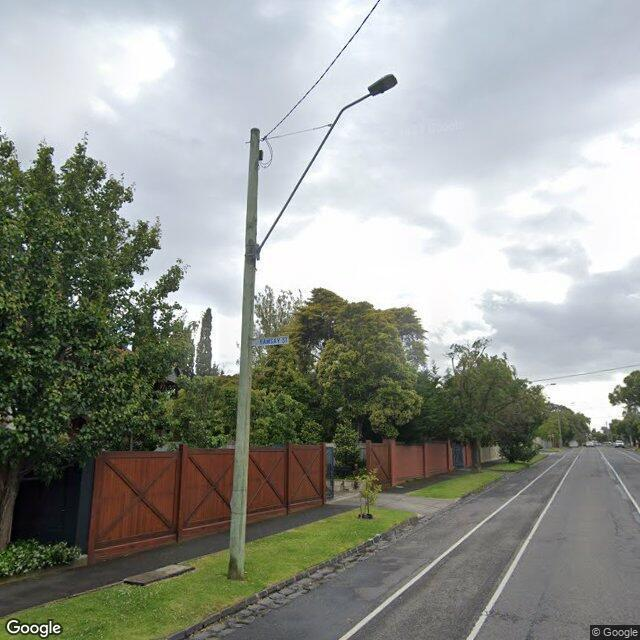streetlight: (256, 74, 398, 258), (544, 382, 557, 387)
timber-pole: (227, 128, 260, 580)
